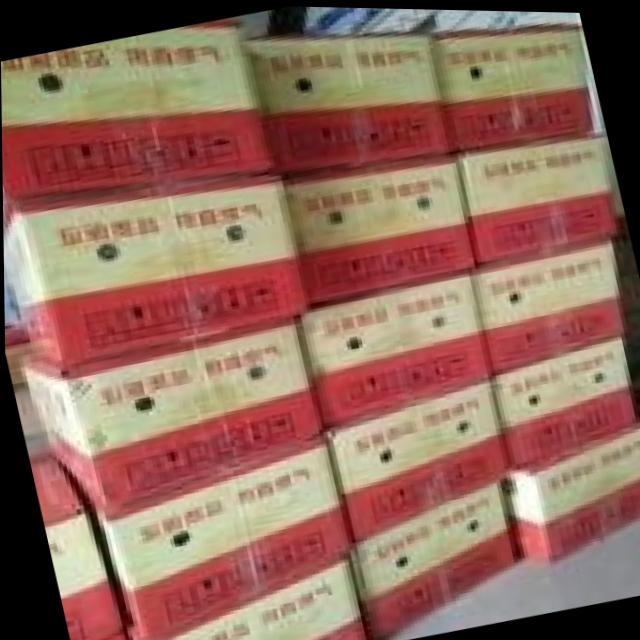box: (21, 317, 323, 520), (3, 171, 309, 368), (1, 23, 275, 229), (83, 439, 354, 640), (292, 269, 490, 432), (322, 373, 508, 540), (280, 148, 475, 305), (242, 31, 452, 172), (346, 474, 515, 640), (452, 127, 620, 269), (430, 19, 593, 148), (497, 417, 640, 563), (473, 240, 623, 373), (490, 330, 634, 468), (28, 454, 127, 640), (153, 557, 368, 640)
